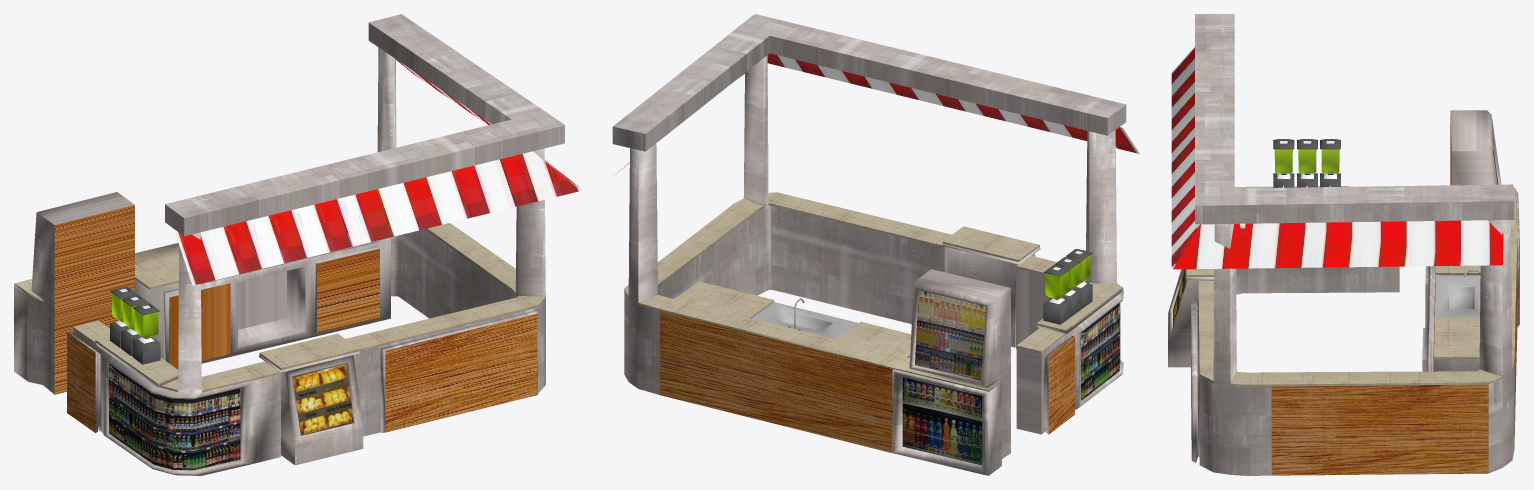
The model's file is shop.fbx.
The picture shows the model from 3 angles, left to right: view 1: azimuth 30°, elevation 25°; view 2: azimuth 150°, elevation 25°; view 3: azimuth 270°, elevation 25°; orthographic projection. The views are drawn at different scales.
Visible parts, largest first — view 1: Form68__1, Form63__1, Form61__1, Form59__1, Form70__1, Form43__1, Form84__1, Form86__1; view 2: Form68__1, Form63__1, Form59__1, Form67__1, Form42__1, Form61__1, Form70__1, Form56__1, Form84__1, Form86__1; view 3: Form68__1, Form63__1, Form61__1, Form59__1, Form56__1, Form84__1, Form86__1.
Boxes of the visible parts, <box> form: Form68__1: <box>14,14,564,475</box>; Form63__1: <box>54,205,537,432</box>; Form61__1: <box>175,59,580,285</box>; Form59__1: <box>14,223,545,392</box>; Form70__1: <box>109,363,240,470</box>; Form43__1: <box>292,364,353,435</box>; Form84__1: <box>110,286,160,364</box>; Form86__1: <box>111,293,158,338</box>; Form68__1: <box>612,14,1126,475</box>; Form63__1: <box>660,311,1074,453</box>; Form59__1: <box>624,192,1122,391</box>; Form67__1: <box>902,377,982,465</box>; Form42__1: <box>915,290,986,380</box>; Form61__1: <box>615,53,1139,174</box>; Form70__1: <box>1081,303,1120,400</box>; Form56__1: <box>752,298,858,339</box>; Form84__1: <box>1043,249,1092,324</box>; Form86__1: <box>1045,255,1090,299</box>; Form68__1: <box>1168,14,1519,475</box>; Form63__1: <box>1191,115,1517,475</box>; Form61__1: <box>1171,47,1503,269</box>; Form59__1: <box>1186,186,1517,386</box>; Form56__1: <box>1434,269,1480,317</box>; Form84__1: <box>1273,139,1340,187</box>; Form86__1: <box>1274,149,1339,173</box>.
Size of the model in its own units: 22348 by 13957 by 16237.
